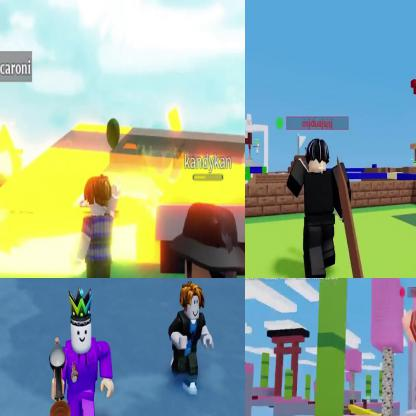Roblox-Avatar: (287, 139, 352, 278), (127, 202, 245, 278), (51, 286, 115, 416), (170, 281, 215, 396), (76, 174, 124, 278), (403, 292, 416, 414)
